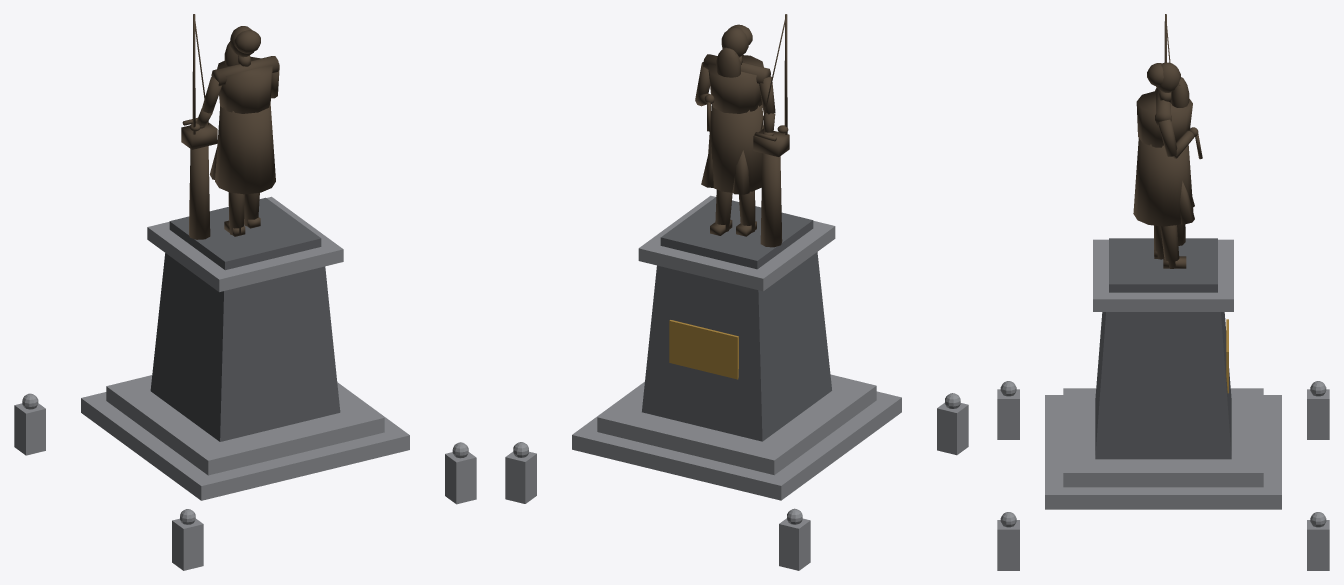
Rendered from monument.glb.
3 renders of one model, left to right at view 1: azimuth 30°, elevation 25°; view 2: azimuth 150°, elevation 25°; view 3: azimuth 270°, elevation 25°, orthographic. The views are drawn at different scales.
Visible parts, largest first — view 1: Тёмный гранит, Гранит, Бронза; view 2: Гранит, Тёмный гранит, Бронза, Доска; view 3: Гранит, Тёмный гранит, Бронза.
Part boxes in pixels (bbox=[...]): Тёмный гранит: bbox=[150, 197, 340, 441]; Гранит: bbox=[14, 196, 476, 570]; Бронза: bbox=[181, 14, 279, 239]; Гранит: bbox=[505, 195, 968, 570]; Тёмный гранит: bbox=[642, 197, 831, 441]; Бронза: bbox=[695, 14, 789, 247]; Доска: bbox=[669, 320, 738, 379]; Гранит: bbox=[997, 239, 1329, 570]; Тёмный гранит: bbox=[1095, 238, 1231, 459]; Бронза: bbox=[1133, 14, 1202, 268].
Size of the model in its own units: 7.3 by 11.2 by 7.3.
